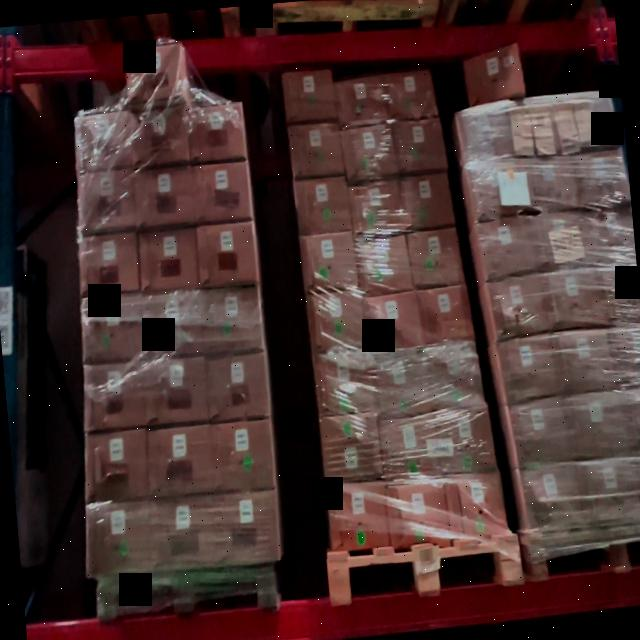box: (83, 362, 148, 431), (84, 504, 149, 571), (78, 228, 140, 296), (385, 475, 448, 541), (149, 428, 210, 494), (320, 416, 380, 482), (327, 482, 386, 548), (82, 299, 144, 361), (212, 426, 272, 489), (223, 498, 280, 564), (86, 436, 148, 496), (154, 503, 212, 567), (208, 354, 266, 418), (198, 220, 255, 284), (313, 354, 375, 412), (152, 358, 208, 421), (140, 229, 198, 289), (451, 476, 506, 539), (299, 233, 358, 291), (436, 412, 495, 470), (124, 46, 187, 100), (77, 168, 134, 227), (309, 293, 366, 352), (366, 297, 421, 356), (137, 170, 193, 226), (379, 418, 436, 473), (194, 169, 250, 224), (205, 295, 262, 349), (283, 64, 336, 122), (191, 105, 246, 160), (295, 179, 349, 235), (145, 296, 201, 349), (374, 351, 427, 406), (348, 178, 401, 232), (289, 125, 341, 180), (76, 115, 132, 166), (358, 238, 409, 291), (410, 233, 461, 286), (418, 288, 469, 341), (428, 348, 481, 399), (135, 111, 189, 160), (387, 69, 436, 119), (342, 128, 393, 175), (396, 121, 444, 170), (338, 76, 384, 126), (404, 176, 452, 222)
